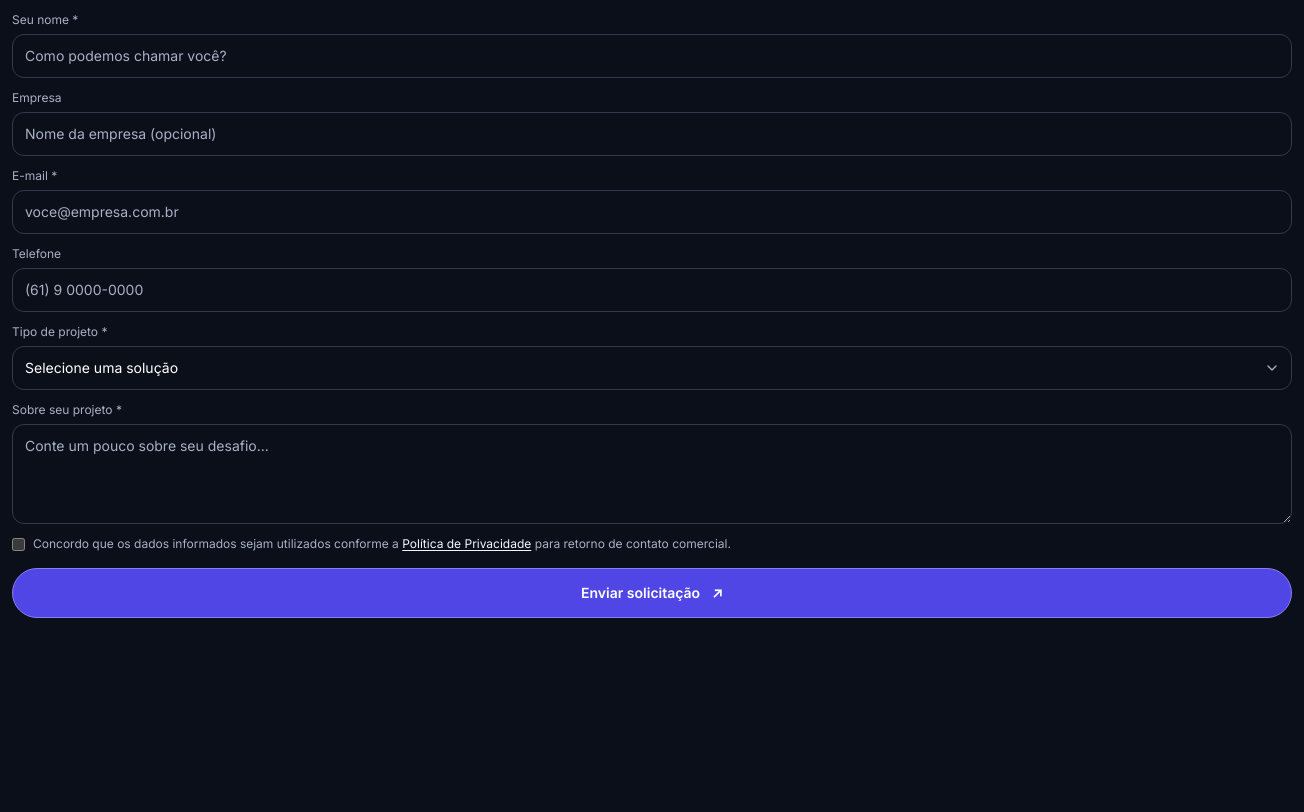
Test case: ContactForm › exibe mensagem amigável em pt-BR quando o servidor retorna 502 HTML não-JSON
The width and height of the screenshot is (1304, 812).
Type "Maria Silva" into the field labelled "Seu nome *" at (652, 56), box [12,34,1292,78]
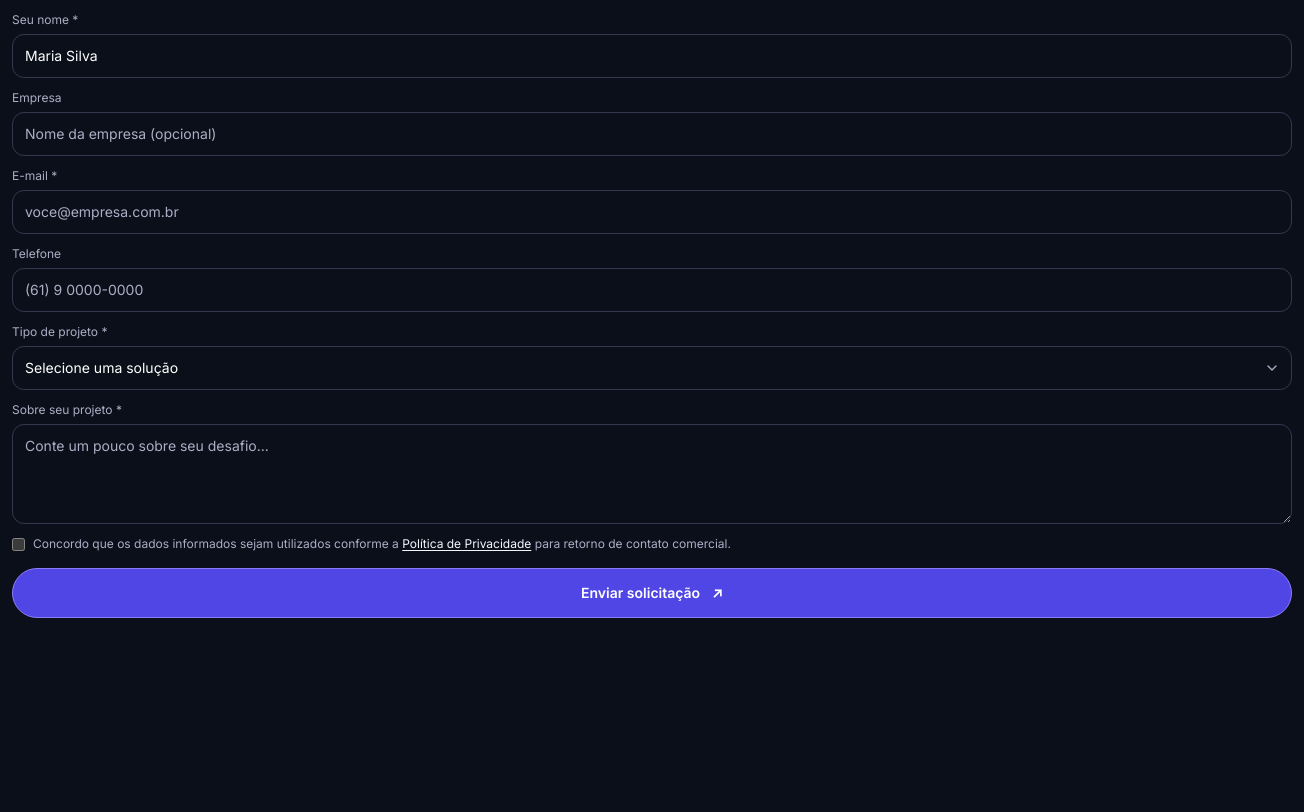
Type "maria@acme.com.br" into the field labelled "E-mail *" at (652, 212), box [12,190,1292,234]
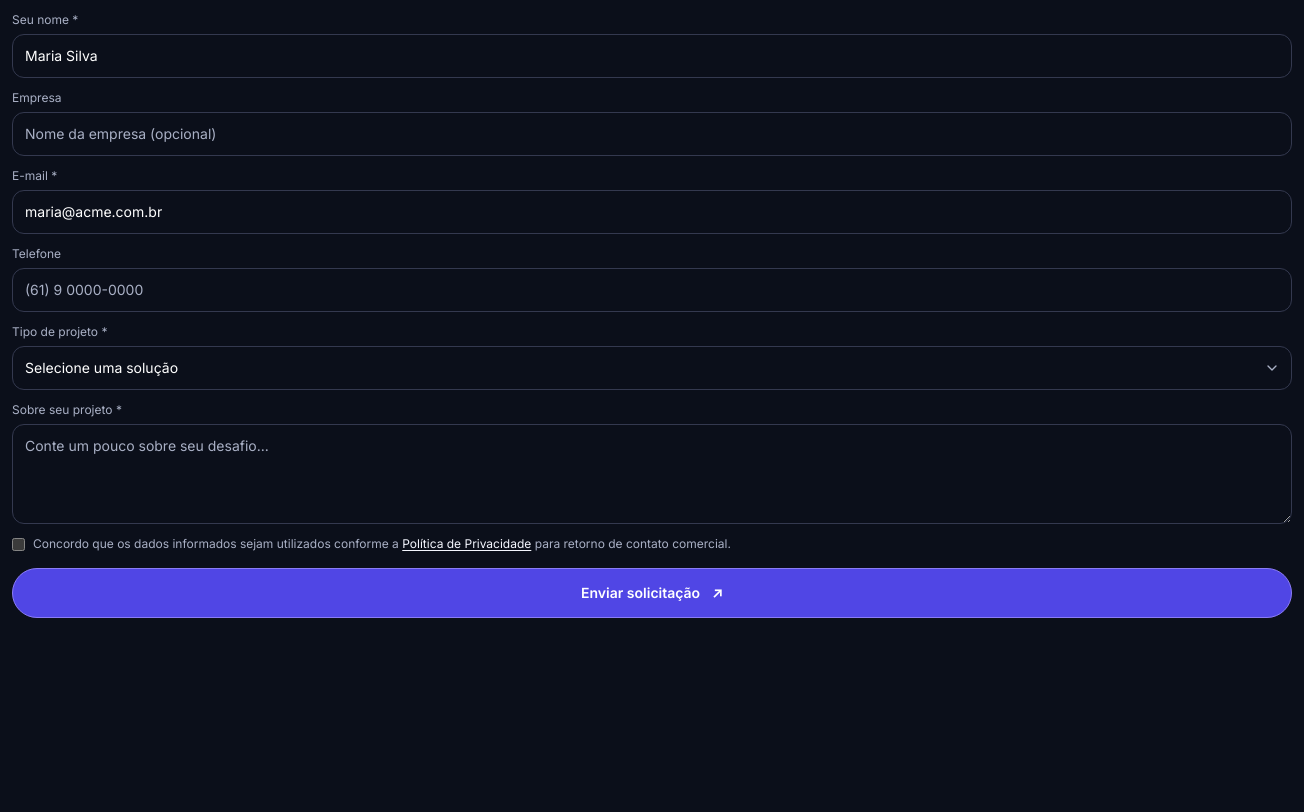
Select "Sistema sob medida" in the dropdown labelled "Tipo de projeto *" at (652, 368), box [12,346,1292,390]
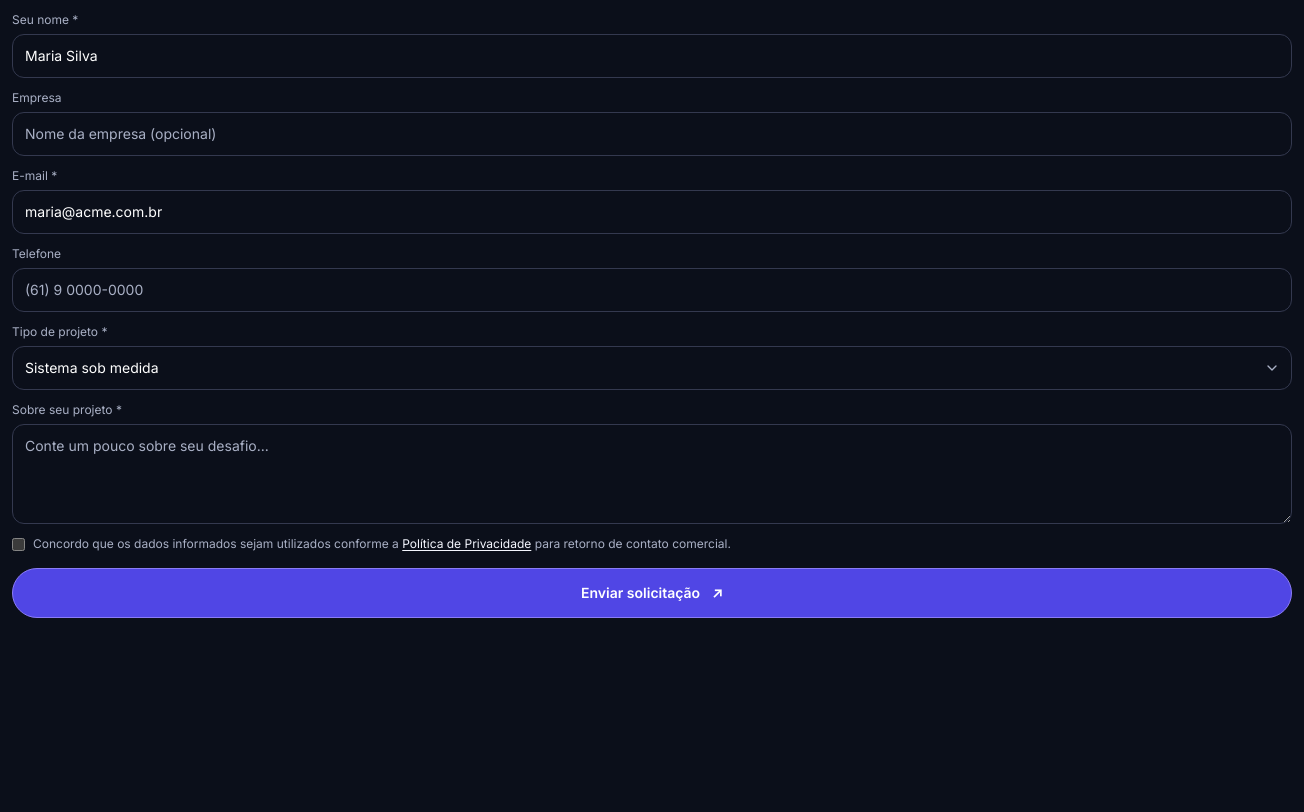
Type "Precisamos de um sistema sob medida para nossa operação." into the text box labelled "Sobre seu projeto *" at (652, 474), box [12,424,1292,524]
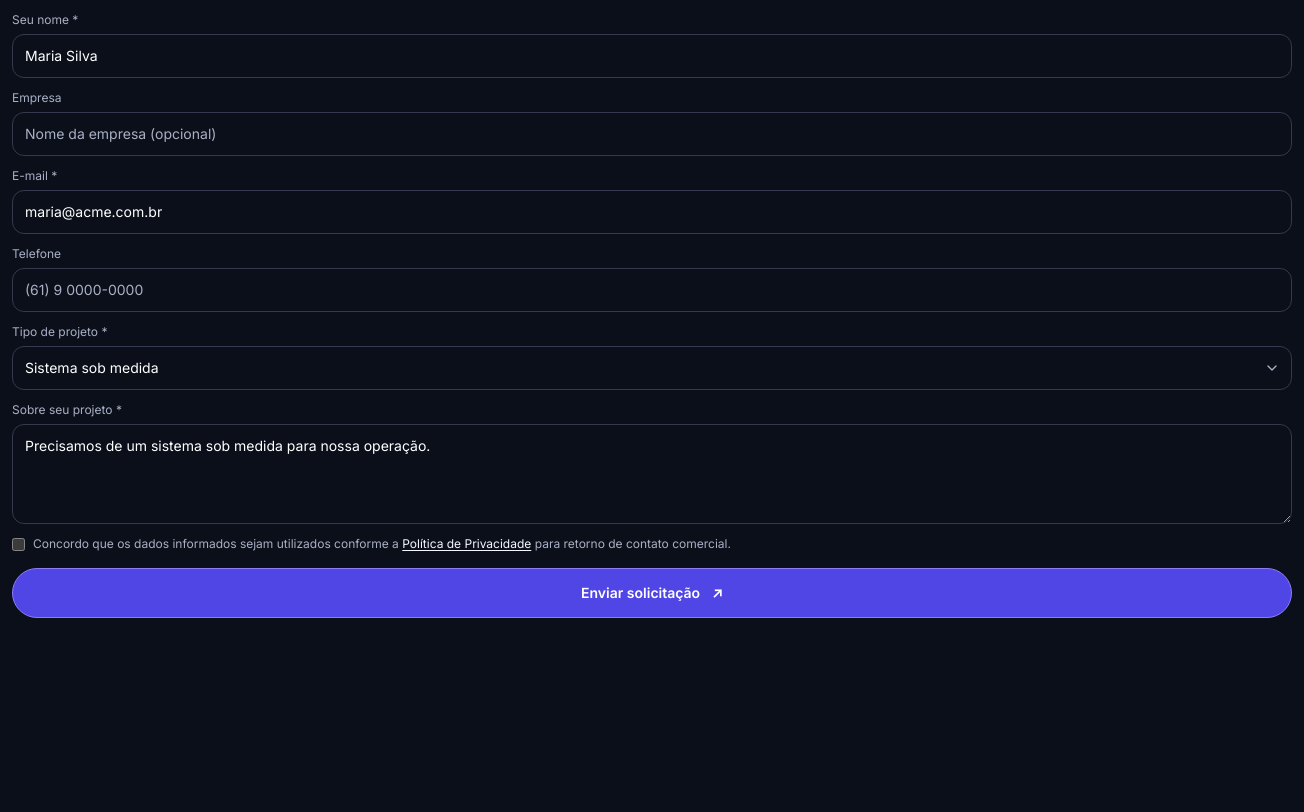
Click the checkbox at (18, 544), box [12,538,25,551]
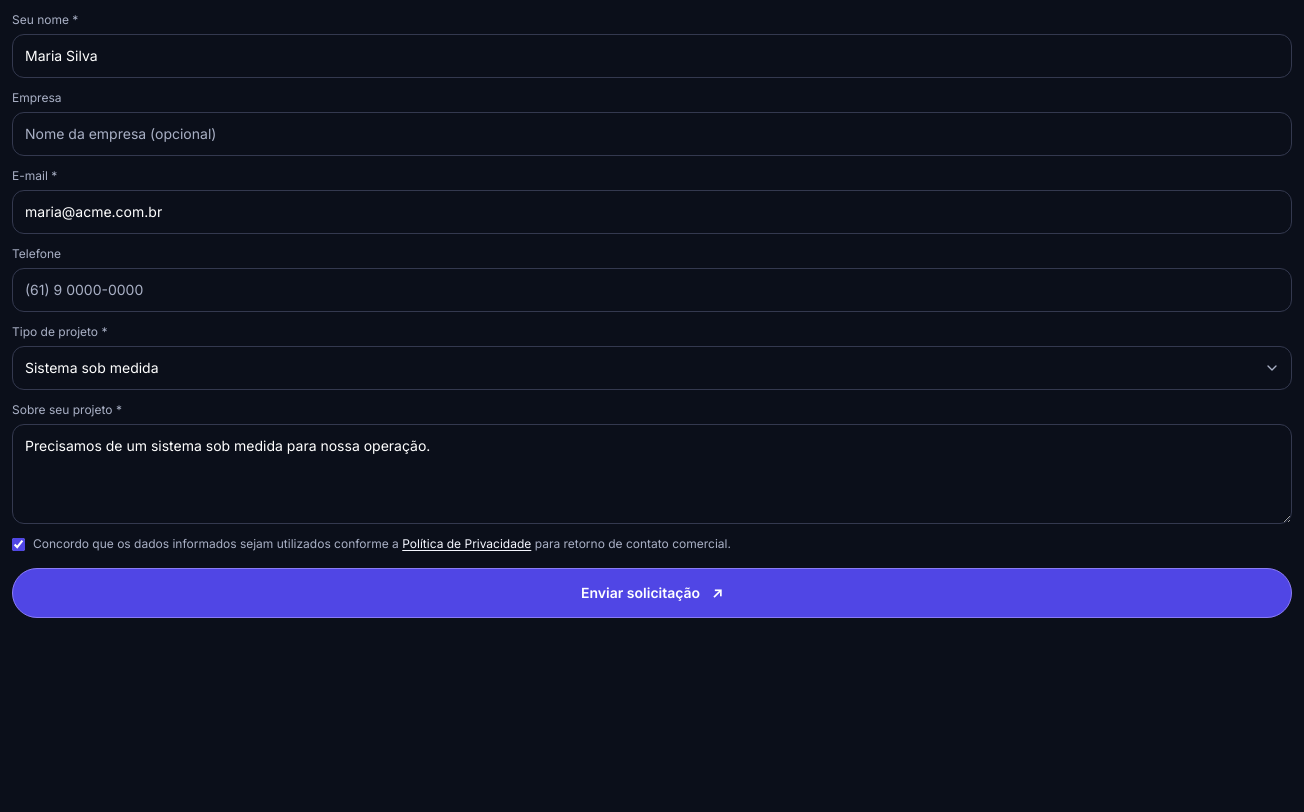
Submit the form named "Formulário de contato"
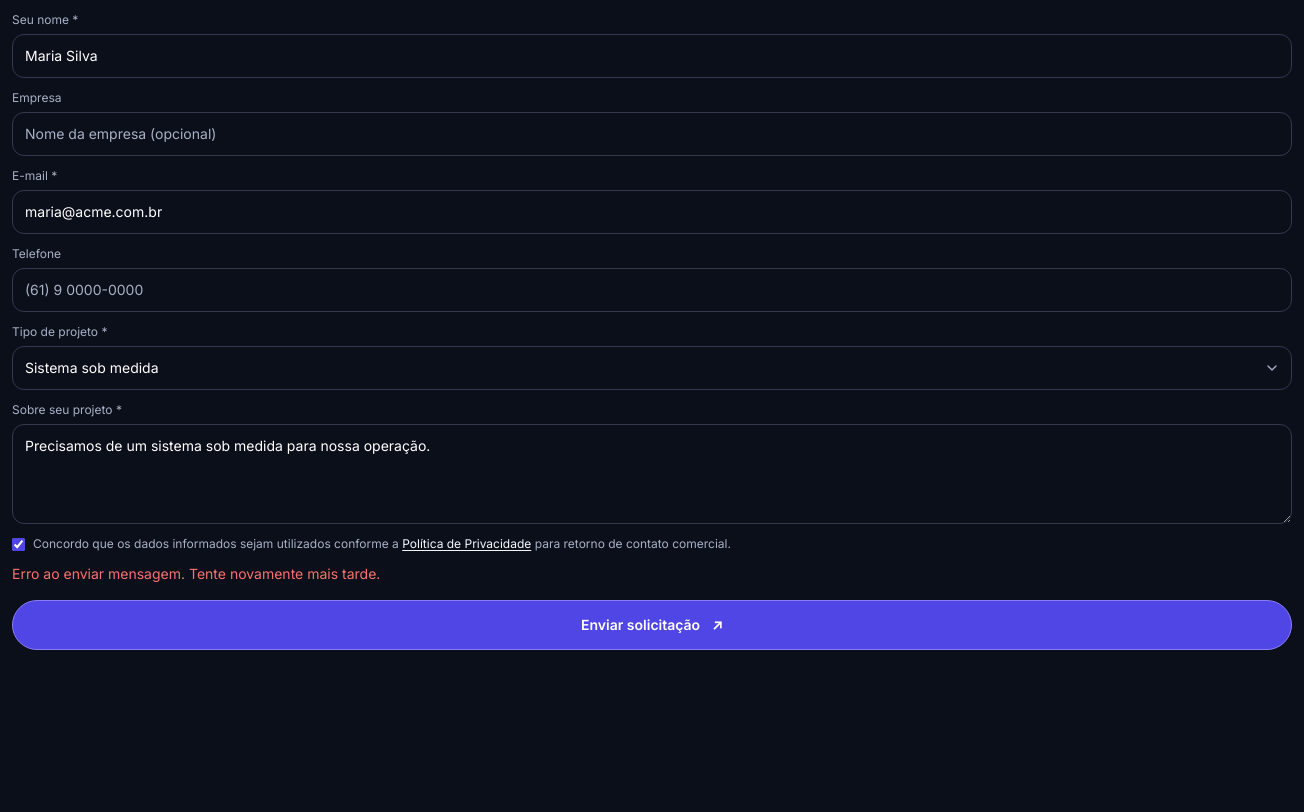
Now the message shows "Erro ao enviar mensagem", box [12,565,380,582]
